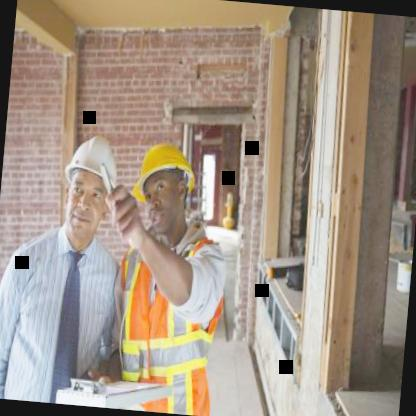helmet: (52, 121, 128, 246), (128, 128, 203, 237)
